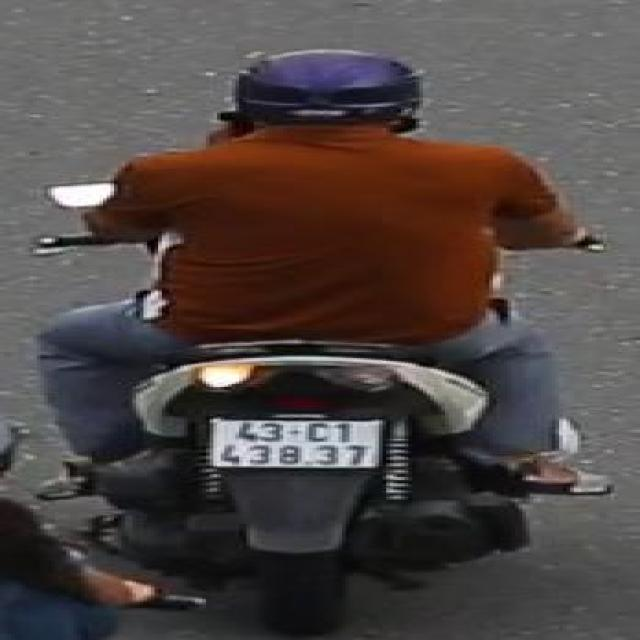LP: (201, 412, 388, 472)
helmet: (233, 44, 436, 146)
